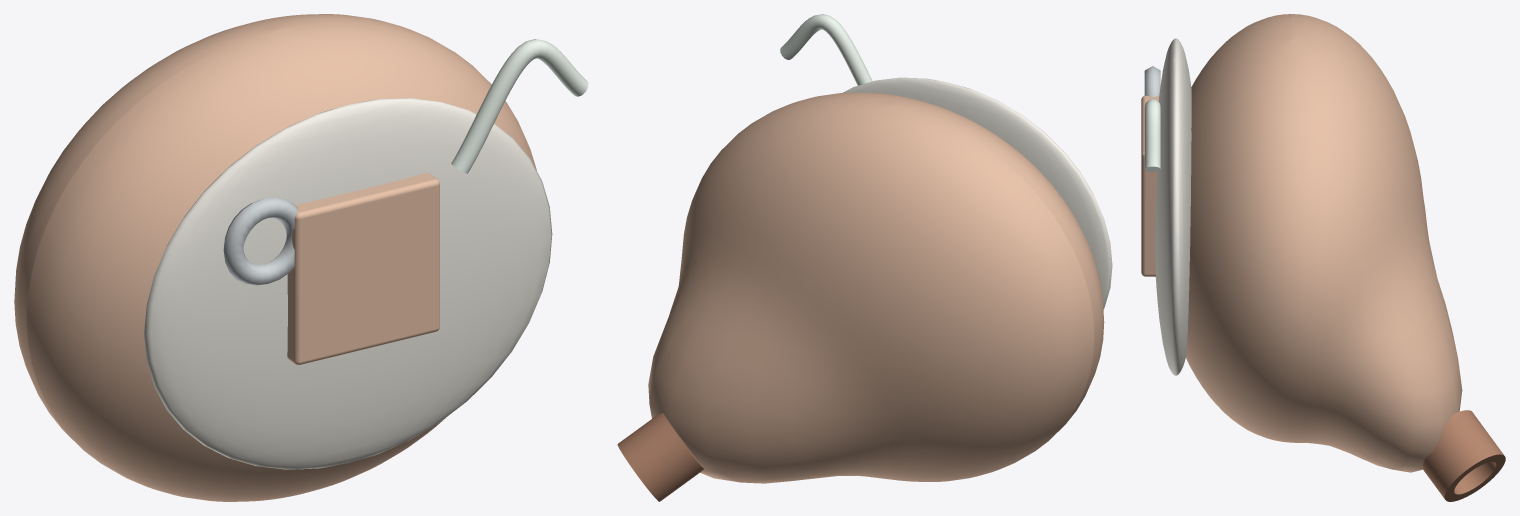
The model's file is hearing-aid-and-audiology-clinic-custom-in-ear-shell-1ae21e39__31744.glb.
3 views of the same model, side by side, from view 1: azimuth 30°, elevation 25°; view 2: azimuth 150°, elevation 25°; view 3: azimuth 270°, elevation 25° (orthographic). The views are drawn at different scales.
Visible parts, largest first — view 1: custom-in-ear-shell; view 2: custom-in-ear-shell; view 3: custom-in-ear-shell.
Part boxes in pixels (<box>): custom-in-ear-shell: <box>14,14,588,501</box>; custom-in-ear-shell: <box>617,14,1112,501</box>; custom-in-ear-shell: <box>1141,14,1505,501</box>.
Size of the model in its own units: 0.0207 by 0.0186 by 0.0158.
